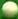white: (0, 0, 18, 19)
